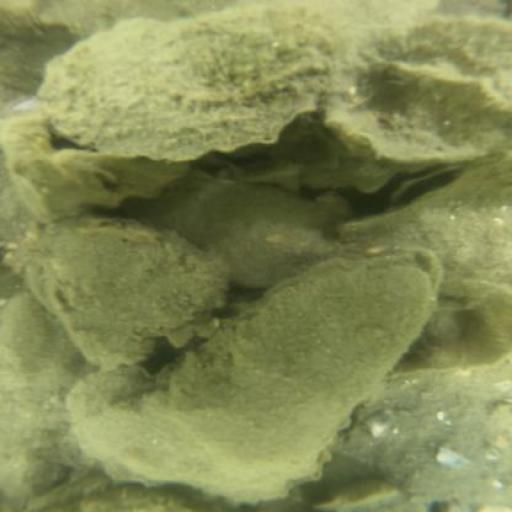Oyster-Closed: (133, 261, 449, 490), (38, 8, 361, 168), (21, 218, 230, 369), (348, 152, 512, 299), (325, 374, 504, 502), (177, 183, 360, 285), (355, 17, 512, 103)
Oyster-Open: (398, 160, 469, 210)
